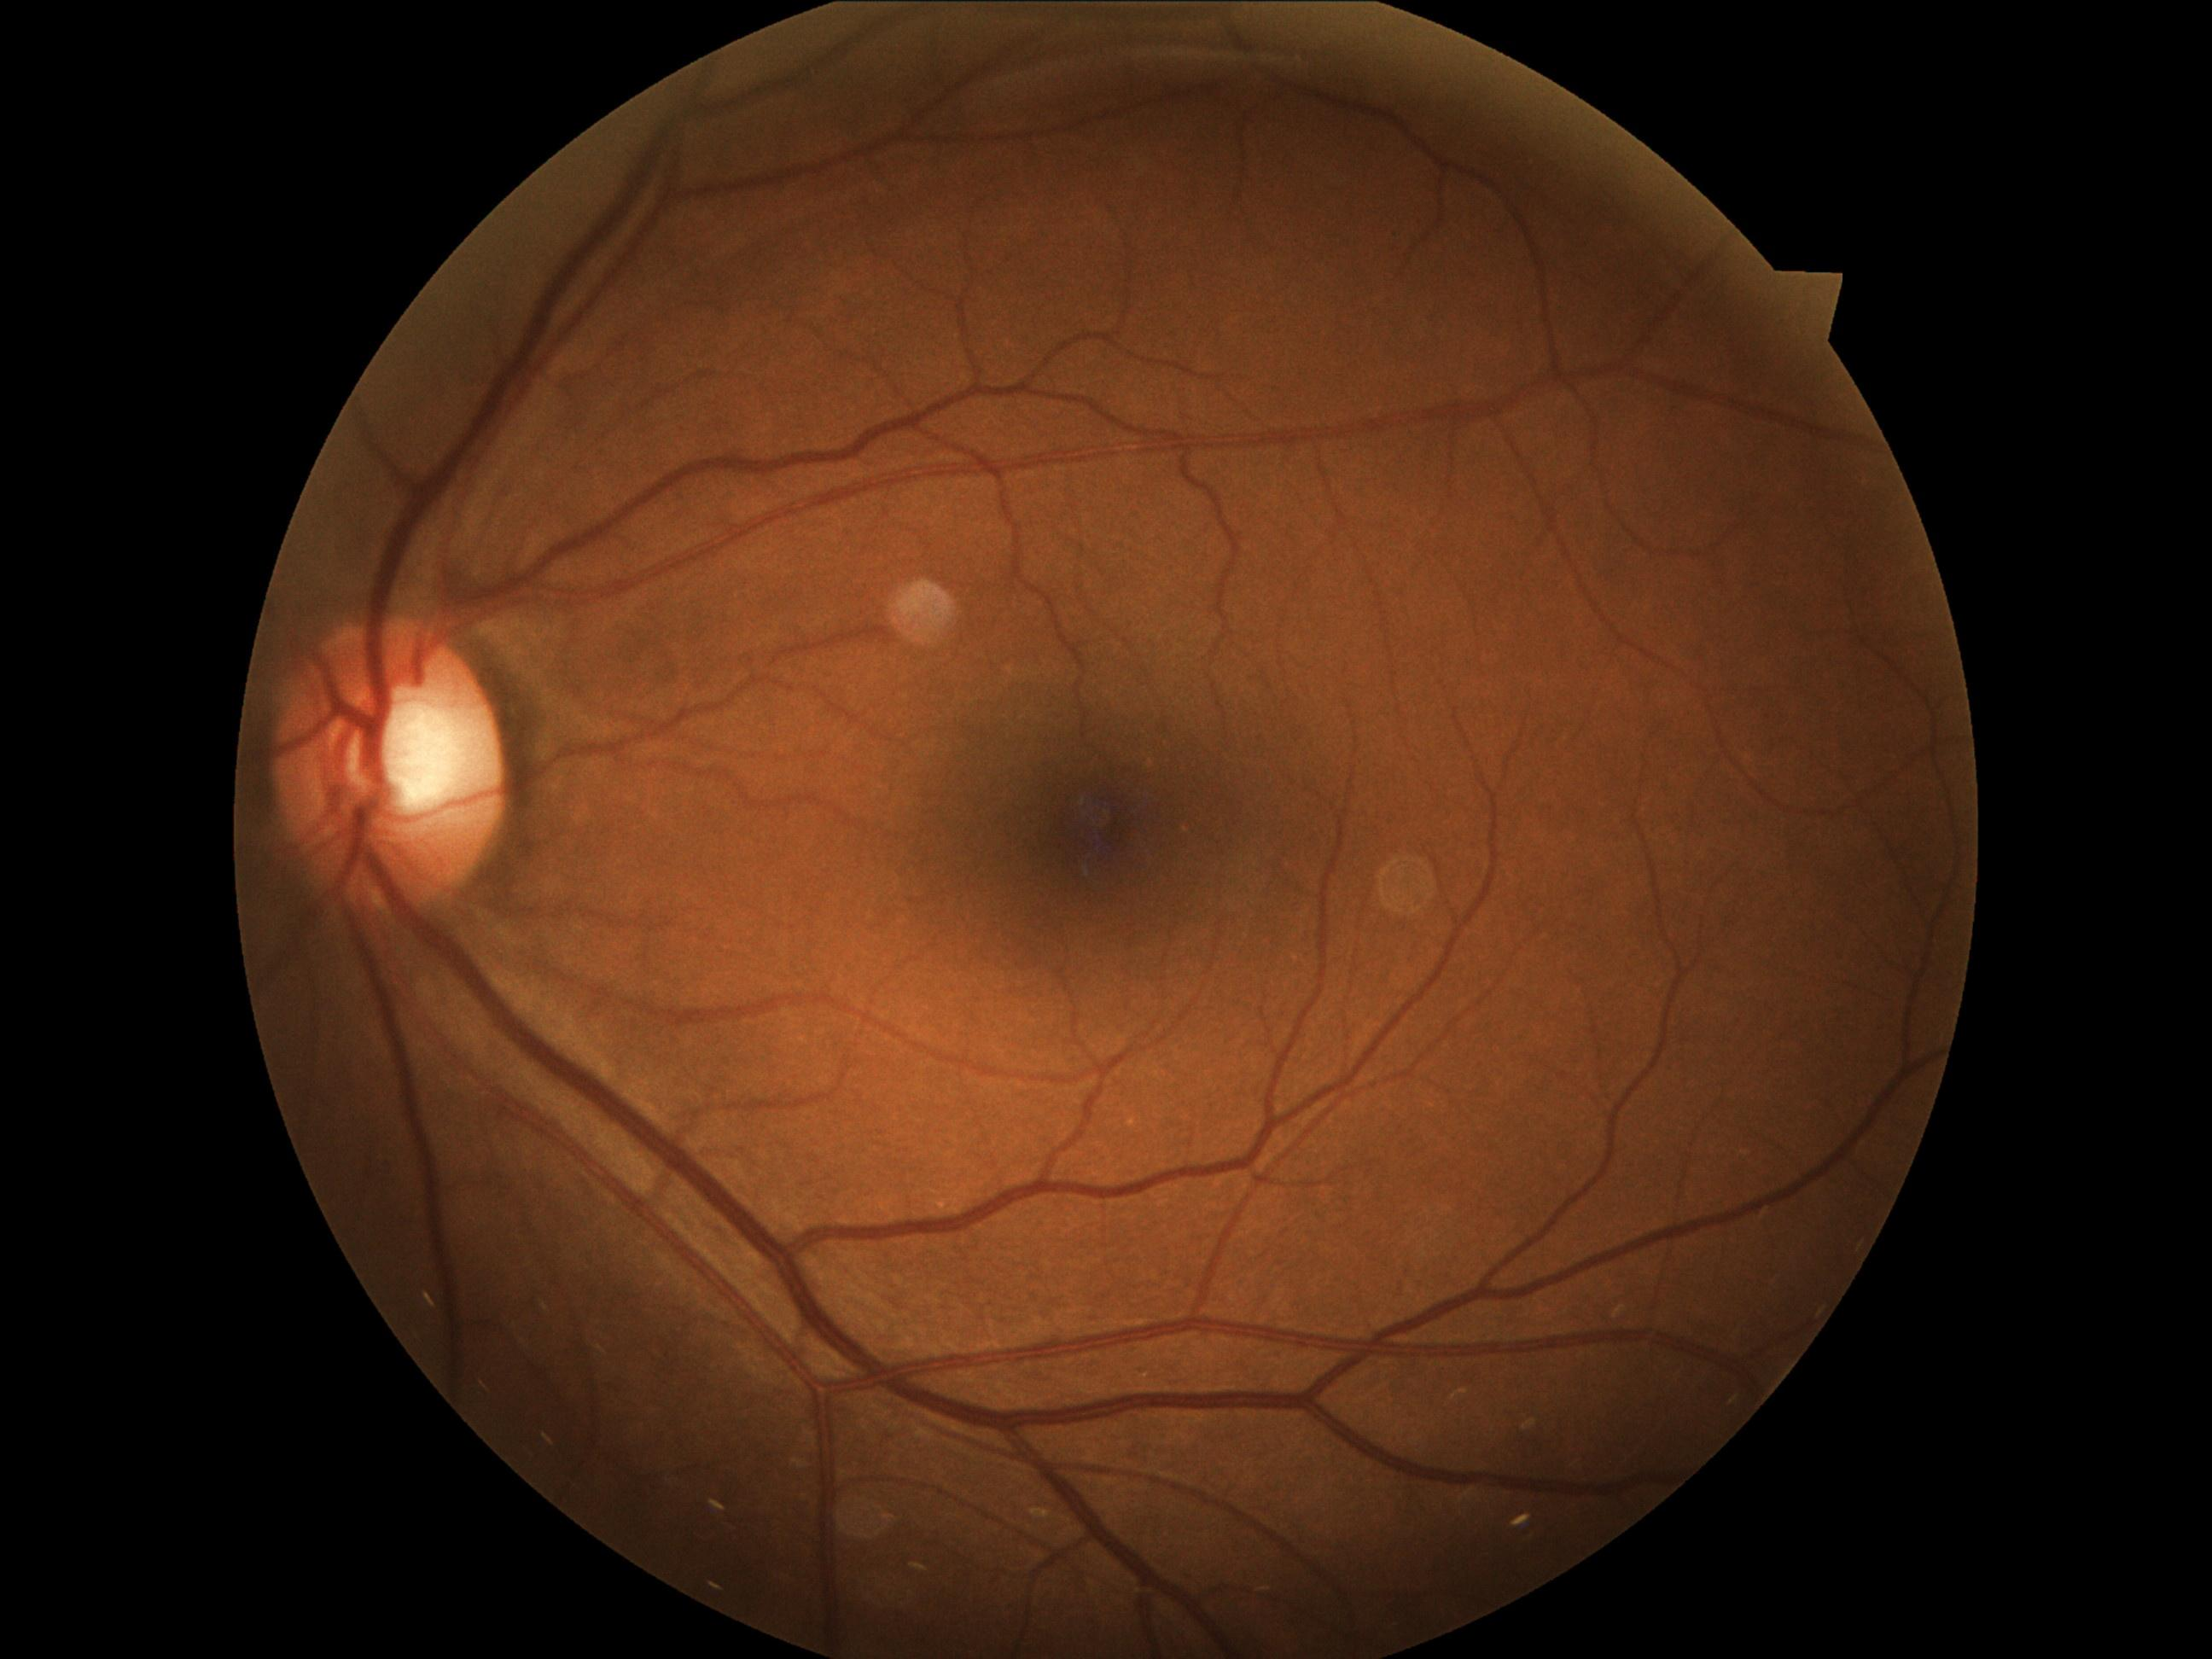Optic-nerve: (242, 592, 526, 948)
macula: (925, 648, 1261, 985)
notch: (1733, 216, 1860, 364)
